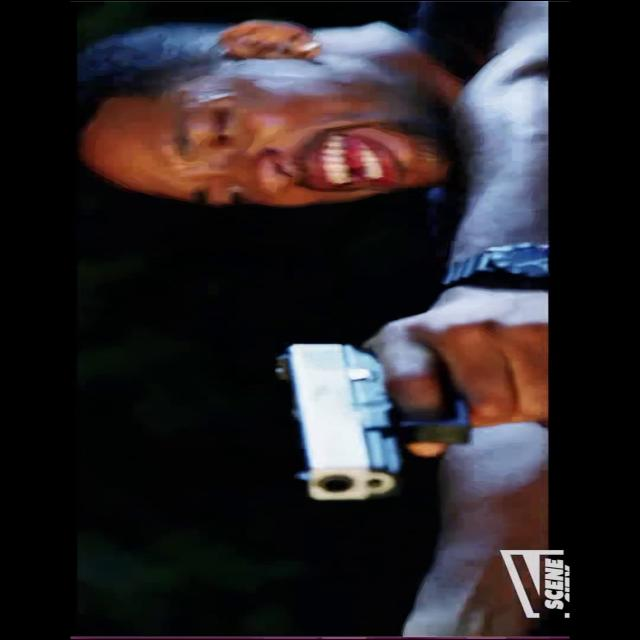weapons: (252, 328, 495, 516)
